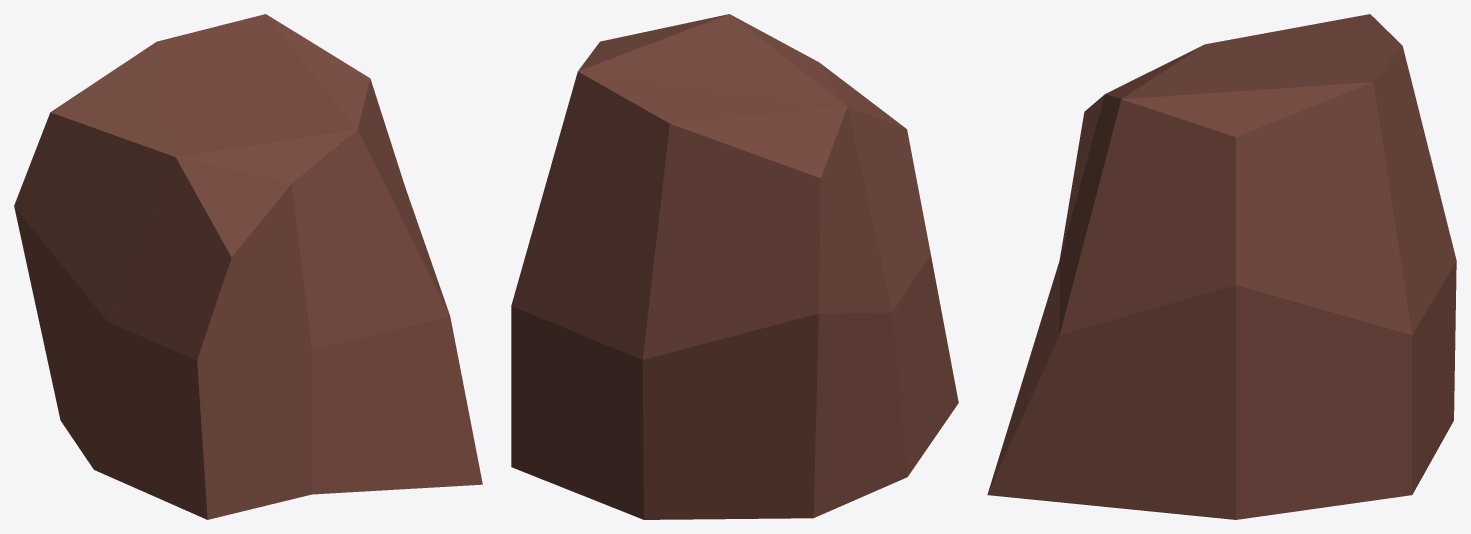
Rendered from FlatRock-A09.fbx.
The picture shows the model from 3 angles, left to right: view 1: azimuth 30°, elevation 25°; view 2: azimuth 150°, elevation 25°; view 3: azimuth 270°, elevation 25°; orthographic projection. The views are drawn at different scales.
Visible parts, largest first — view 1: FlatRock-A09; view 2: FlatRock-A09; view 3: FlatRock-A09.
Part boxes in pixels (x1,y1,x2,y2): FlatRock-A09: (14, 14, 482, 519); FlatRock-A09: (511, 14, 958, 519); FlatRock-A09: (987, 14, 1456, 519).
Size of the model in its own units: 233 by 244 by 266.
